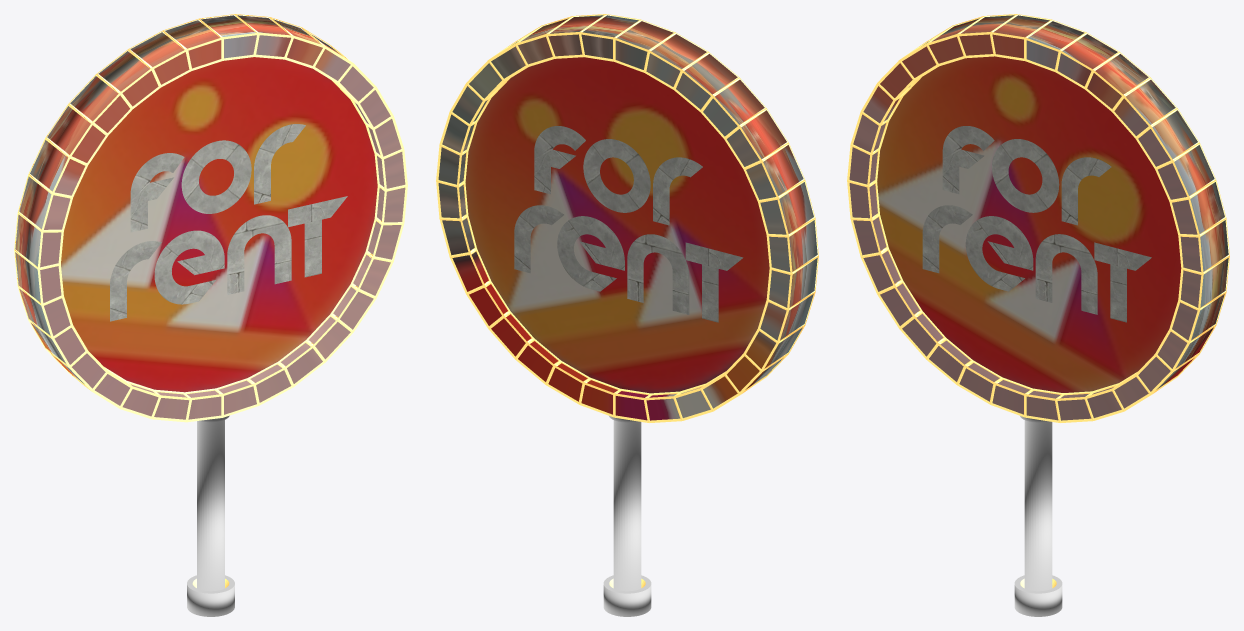
Rendered from forrent.glb.
3 views of the same model, side by side, from view 1: azimuth 30°, elevation 25°; view 2: azimuth 150°, elevation 25°; view 3: azimuth 330°, elevation 25° (orthographic).
Parts seen in each view (by area): view 1: Cylinder.002, Cylinder.001; view 2: Cylinder.002, Cylinder.001; view 3: Cylinder.002, Cylinder.001.
Boxes of the visible parts, x1,y1,x2,y2 form: Cylinder.002: [14, 14, 407, 422]; Cylinder.001: [187, 415, 234, 616]; Cylinder.002: [436, 14, 818, 422]; Cylinder.001: [603, 416, 651, 616]; Cylinder.002: [847, 14, 1229, 422]; Cylinder.001: [1014, 416, 1062, 616].
Bounding box in the file's own units: 11.46 × 17.37 × 1.72.
Materials: 4 (2 with a texture image).
